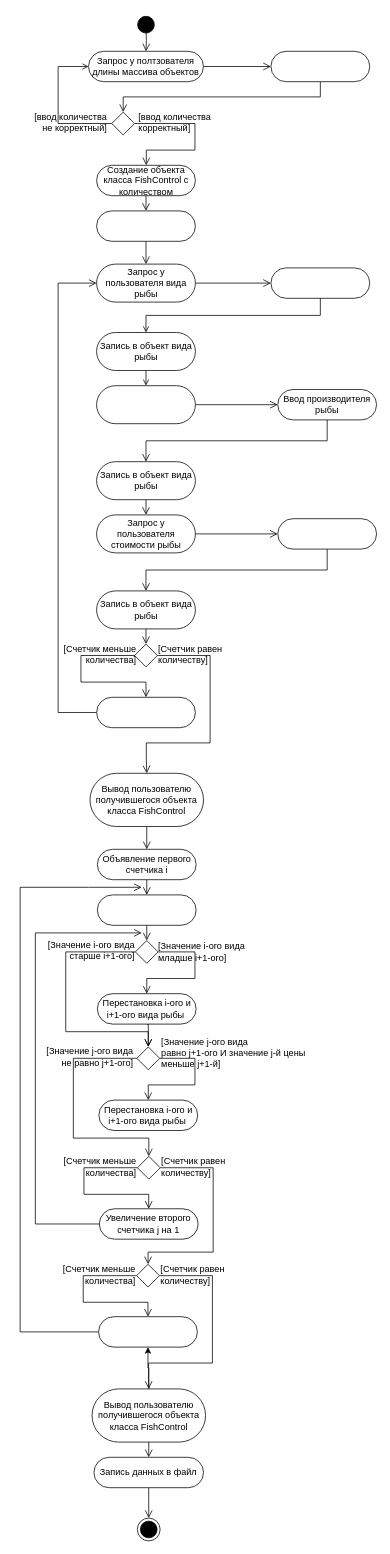
The diagram is 390 pixels wide and 1554 high, and some of its shapes have lost their labels. The centre of each missing label's shape, as x and y in pixels:
"Ввод вида рыбы" belongs at (x=320, y=282).
"Ввод количества объектов" belongs at (x=320, y=66).
"Ввод стоимости рыбы" belongs at (x=327, y=533).
"Запрос у пользователя производителя рыбы" belongs at (x=145, y=404).
"Объявление второго счетчика j" belongs at (x=146, y=909).
"Объявление счетчика i" belongs at (x=145, y=225).
"Увеличение второго счетчика i на 1" belongs at (x=147, y=1331).
"Увеличение счетчика i на 1" belongs at (x=145, y=712).
